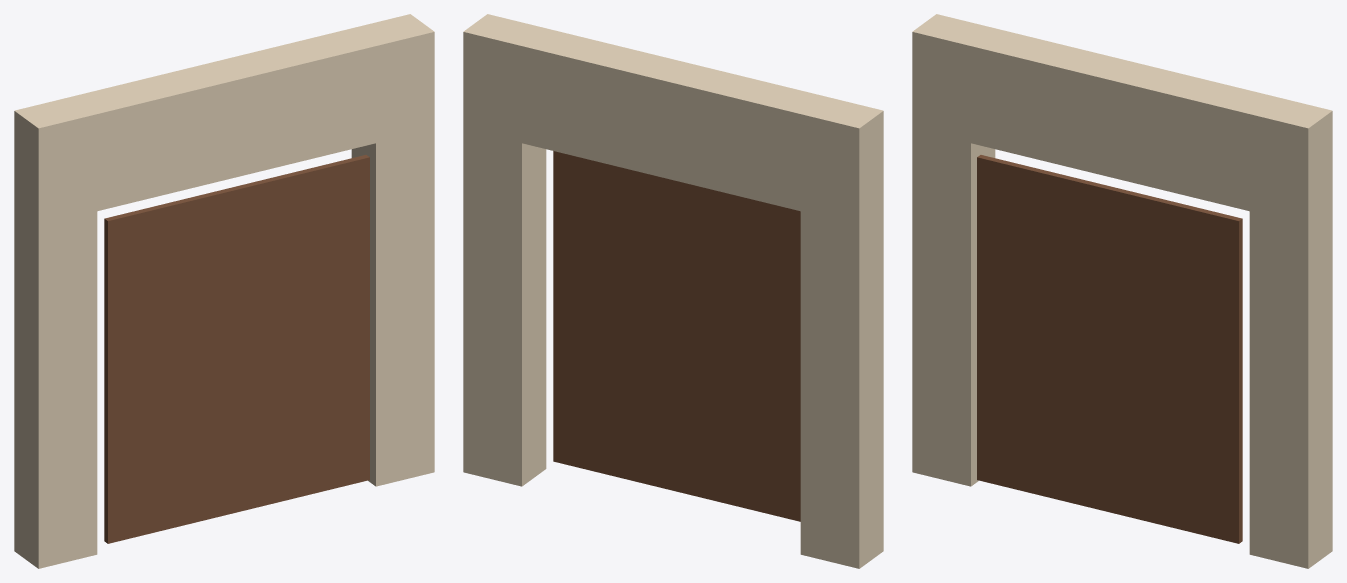
File: bh_souq_delivery_door_01_lod0.glb
3 views of the same model, side by side, from view 1: azimuth 30°, elevation 25°; view 2: azimuth 150°, elevation 25°; view 3: azimuth 330°, elevation 25° (orthographic).
Parts seen in each view (by area): view 1: bh_souq_delivery_door_01_infill, bh_souq_delivery_door_01_left, bh_souq_delivery_door_01_top, bh_souq_delivery_door_01_right; view 2: bh_souq_delivery_door_01_infill, bh_souq_delivery_door_01_left, bh_souq_delivery_door_01_right, bh_souq_delivery_door_01_top; view 3: bh_souq_delivery_door_01_infill, bh_souq_delivery_door_01_right, bh_souq_delivery_door_01_top, bh_souq_delivery_door_01_left.
Boxes of the visible parts, x1,y1,x2,y2 form: bh_souq_delivery_door_01_infill: [104, 155, 369, 543]; bh_souq_delivery_door_01_left: [14, 96, 97, 568]; bh_souq_delivery_door_01_top: [73, 28, 375, 211]; bh_souq_delivery_door_01_right: [351, 14, 434, 486]; bh_souq_delivery_door_01_infill: [553, 151, 800, 521]; bh_souq_delivery_door_01_left: [800, 96, 883, 568]; bh_souq_delivery_door_01_right: [463, 14, 546, 486]; bh_souq_delivery_door_01_top: [522, 28, 824, 211]; bh_souq_delivery_door_01_infill: [977, 155, 1242, 543]; bh_souq_delivery_door_01_right: [1249, 96, 1332, 568]; bh_souq_delivery_door_01_top: [971, 28, 1273, 211]; bh_souq_delivery_door_01_left: [912, 14, 995, 486].
Size of the model in its own units: 3.2 by 3.4 by 0.3718.
